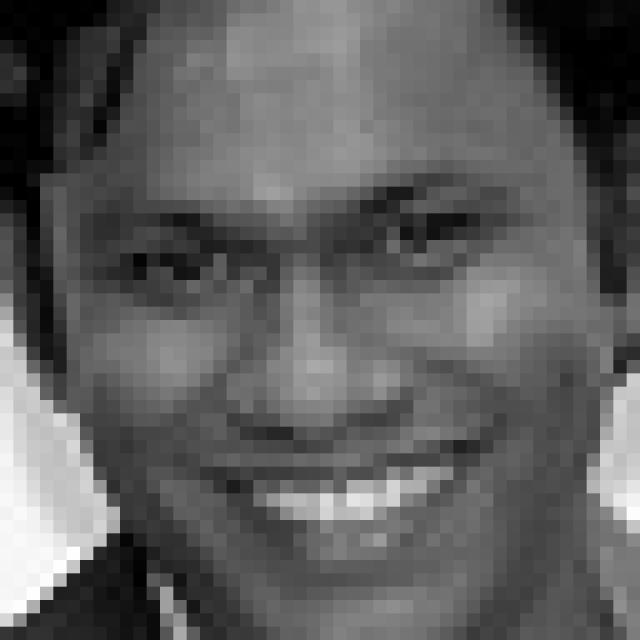happy: (86, 166, 528, 592)
